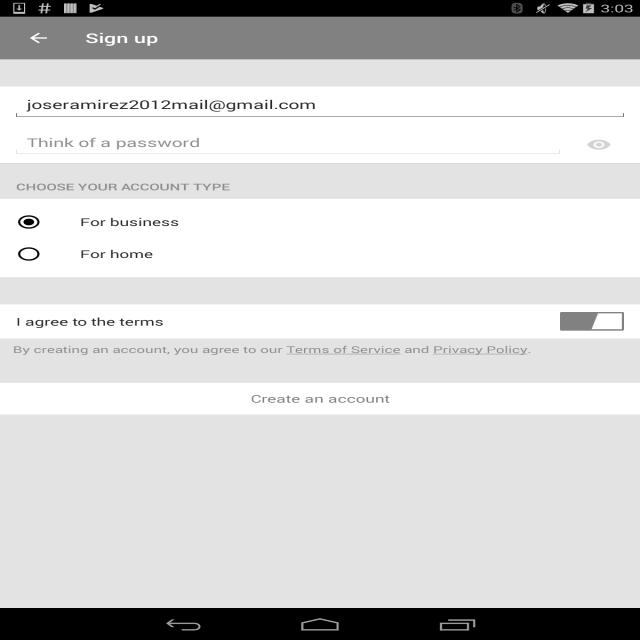Button: (0, 382, 640, 414)
EditText: (0, 86, 640, 126), (27, 134, 549, 150)
ImageButton: (9, 17, 68, 59), (576, 126, 640, 163)
RadioButton: (11, 206, 640, 238), (11, 238, 640, 270)
TextView: (0, 304, 624, 339), (13, 343, 531, 356), (0, 180, 230, 198), (85, 22, 158, 54)
